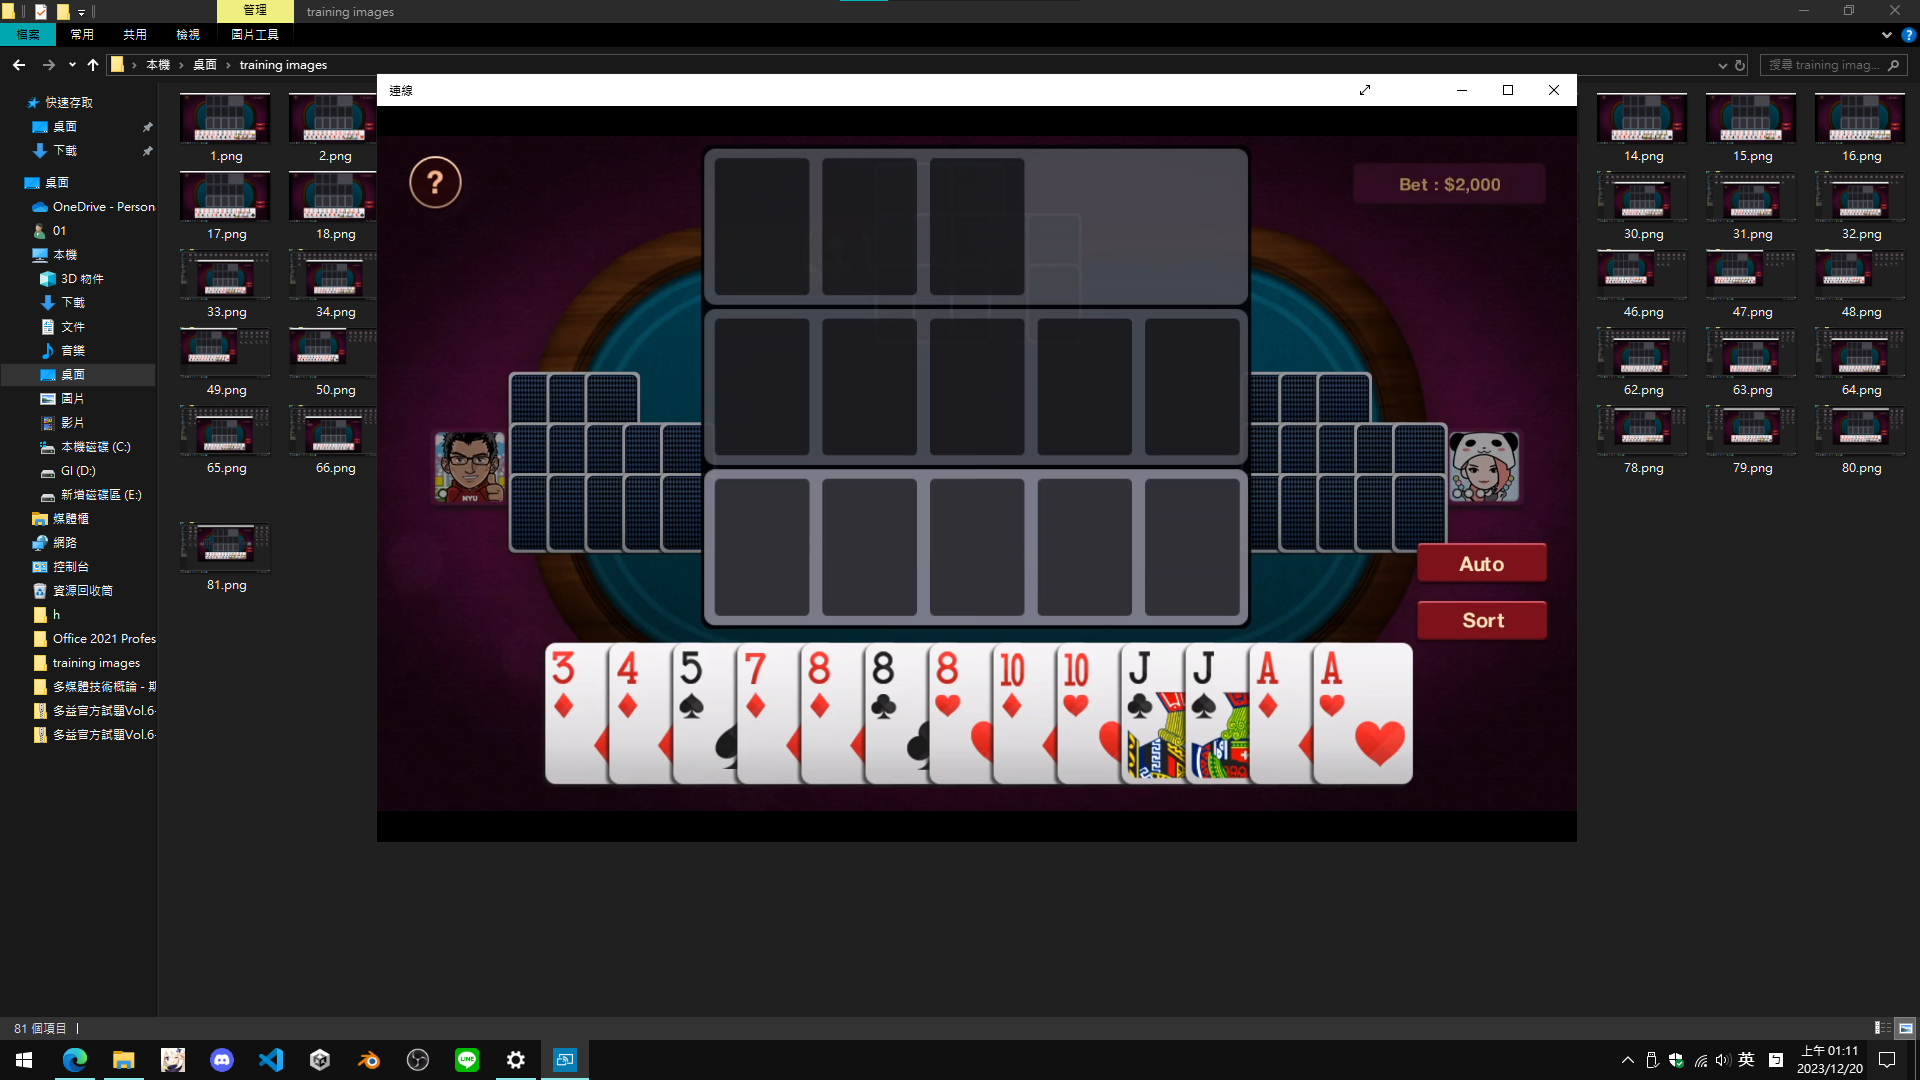10D: (997, 649, 1029, 724)
10H: (1062, 649, 1092, 721)
3D: (550, 646, 579, 723)
4D: (613, 647, 640, 724)
5S: (678, 646, 707, 725)
7D: (742, 647, 769, 723)
8C: (869, 649, 898, 723)
8D: (807, 646, 832, 721)
8H: (931, 646, 963, 720)
AD: (1254, 646, 1284, 725)
AH: (1317, 646, 1348, 724)
JC: (1126, 646, 1155, 725)
JS: (1188, 646, 1221, 727)
